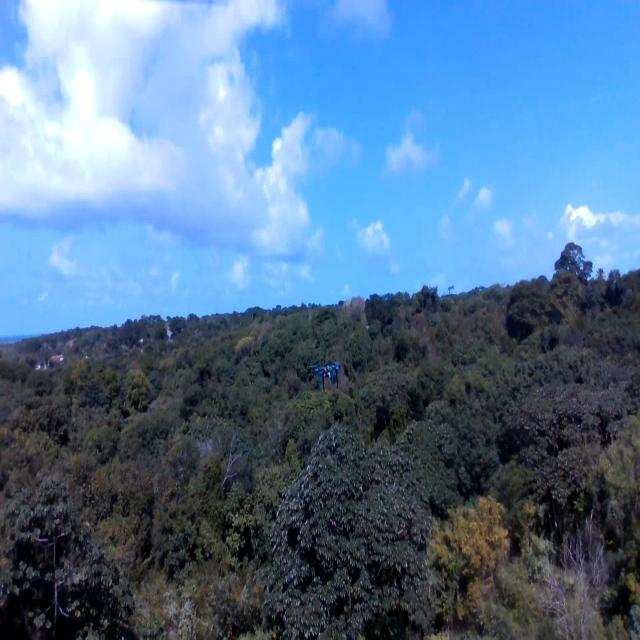-uav-: (306, 348, 346, 402)
